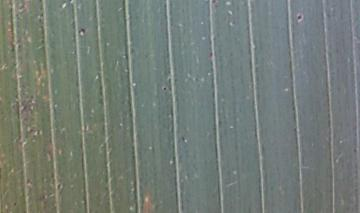tarspot: (75, 25, 90, 38), (294, 10, 307, 23), (160, 83, 169, 94), (178, 133, 189, 142), (10, 199, 20, 206), (209, 1, 220, 7)
